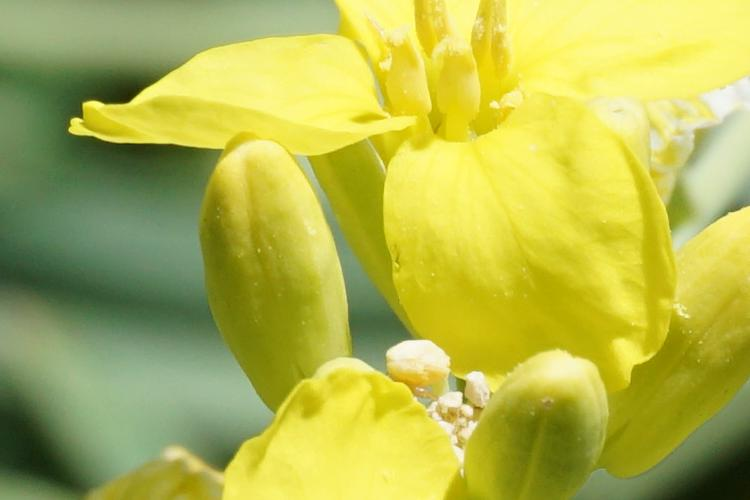bud: (190, 137, 366, 390), (602, 196, 749, 475), (489, 348, 619, 500)
yellow: (138, 18, 722, 368)
